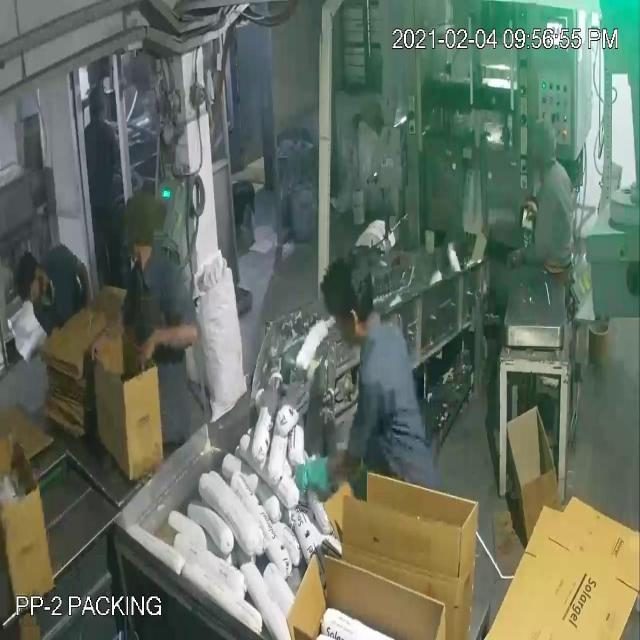No_Gloves: (28, 71, 325, 474)
